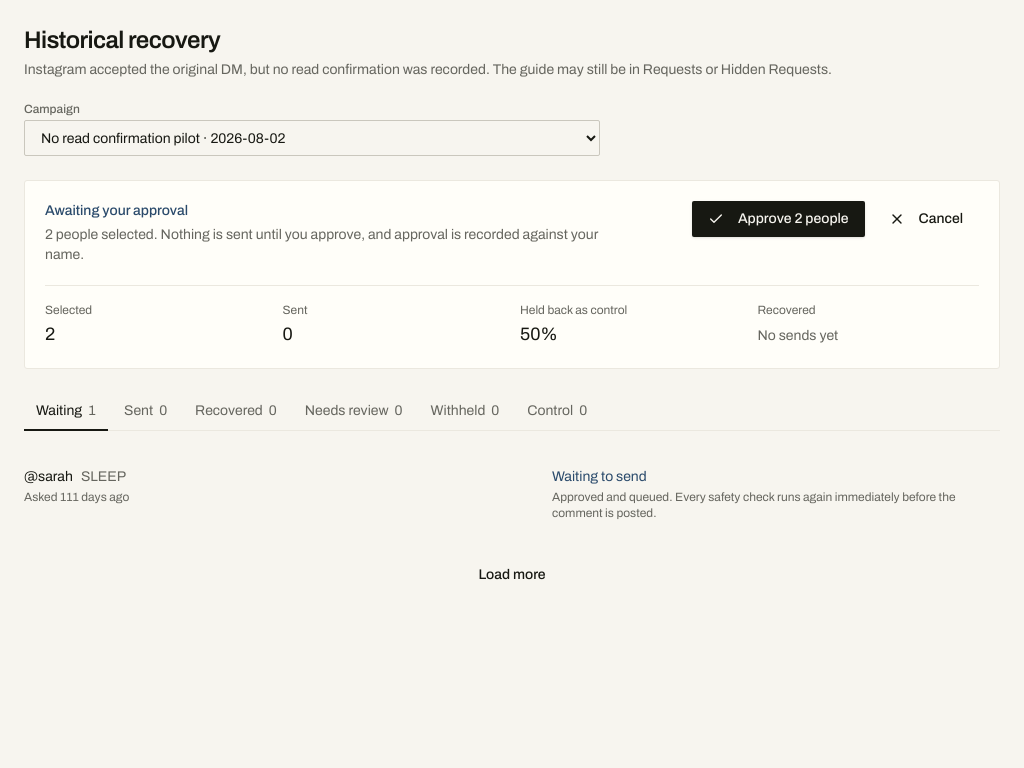
Test: HistoricalRecovery › loads the next cursor with the first page asOf boundary
Click the button "Load more" at (512, 575), box [462,557,562,593]
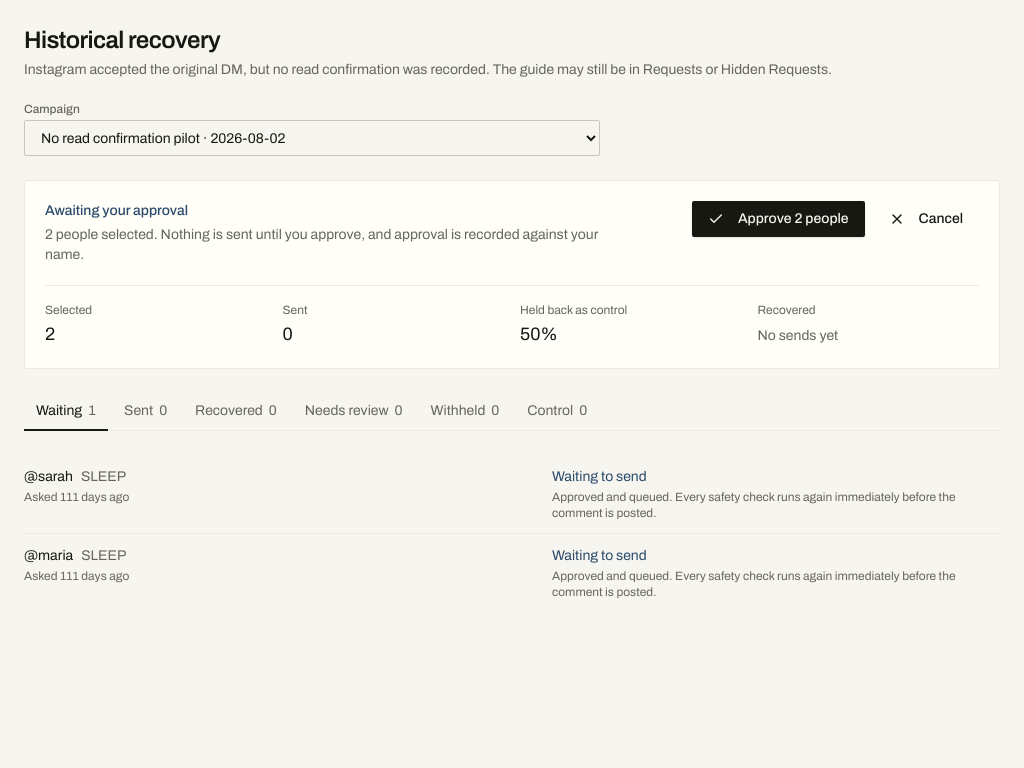
Check: the text "@sarah" is shown once, box [24,469,126,484]
Check: the text "@maria" is shown, box [24,548,73,563]
